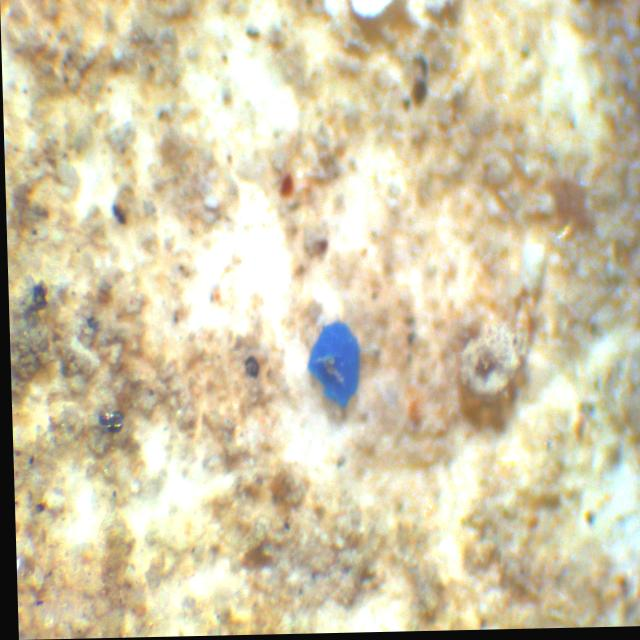microplastic: (305, 319, 359, 413)
